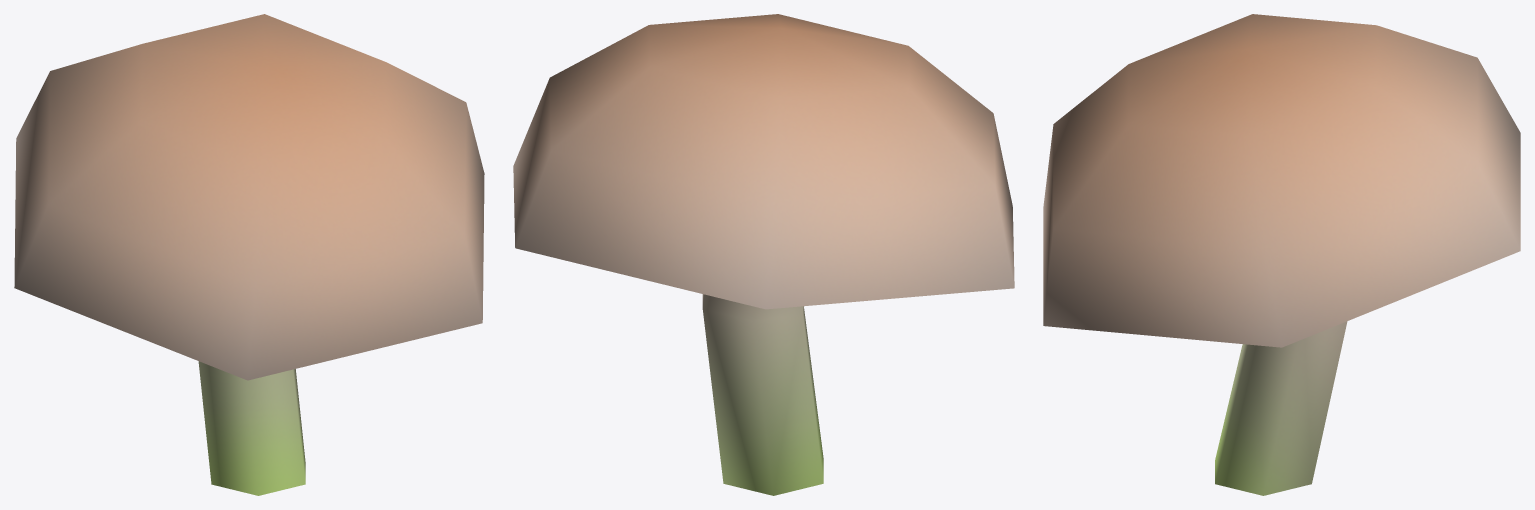
File: Mushroom.fbx
3 views of the same model, side by side, from view 1: azimuth 30°, elevation 25°; view 2: azimuth 150°, elevation 25°; view 3: azimuth 270°, elevation 25° (orthographic). The views are drawn at different scales.
Parts seen in each view (by area): view 1: polySurface2; view 2: polySurface2; view 3: polySurface2.
Boxes of the visible parts, box(x1,y1,x2,y2) form: polySurface2: box(14, 14, 484, 495); polySurface2: box(513, 14, 1014, 495); polySurface2: box(1043, 14, 1520, 495).
Size of the model in its own units: 2.73 by 2.27 by 2.33.
